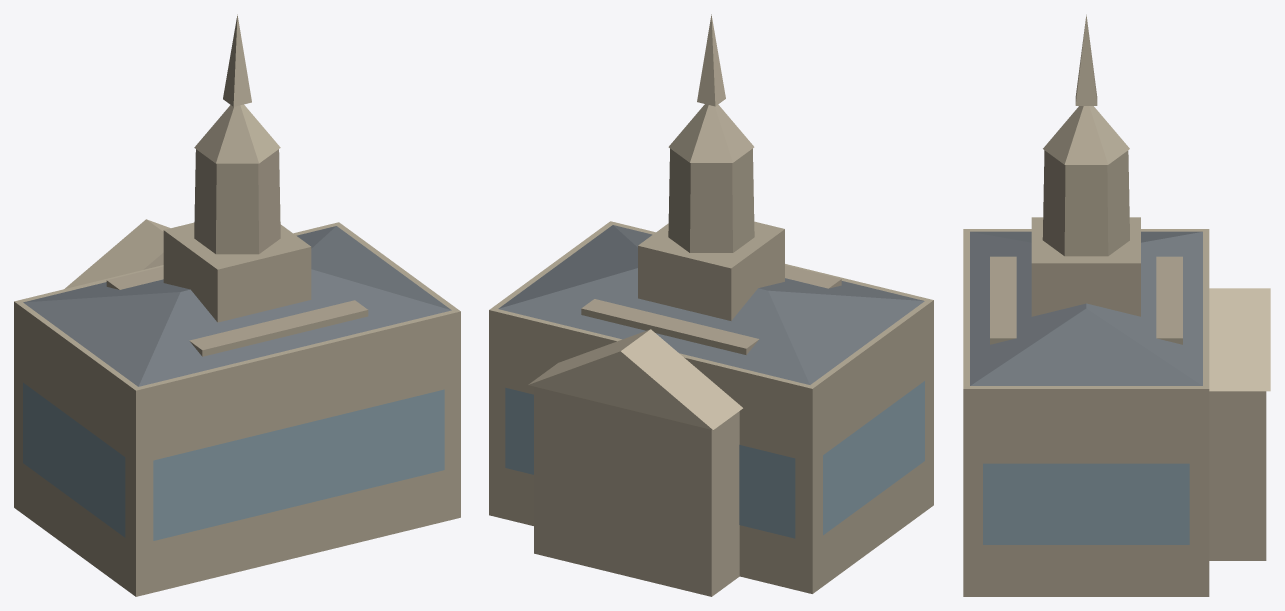
3 renders of one model, left to right at view 1: azimuth 30°, elevation 25°; view 2: azimuth 150°, elevation 25°; view 3: azimuth 270°, elevation 25°, orthographic.
Parts seen in each view (by area): view 1: brooklyn-borough-hall-lod3; view 2: brooklyn-borough-hall-lod3; view 3: brooklyn-borough-hall-lod3.
Boxes of the visible parts, x1,y1,x2,y2 form: brooklyn-borough-hall-lod3: (14, 14, 460, 596); brooklyn-borough-hall-lod3: (489, 14, 933, 596); brooklyn-borough-hall-lod3: (963, 14, 1270, 596).
Bounding box in the file's own units: 54.3 × 79.2 × 43.98.
